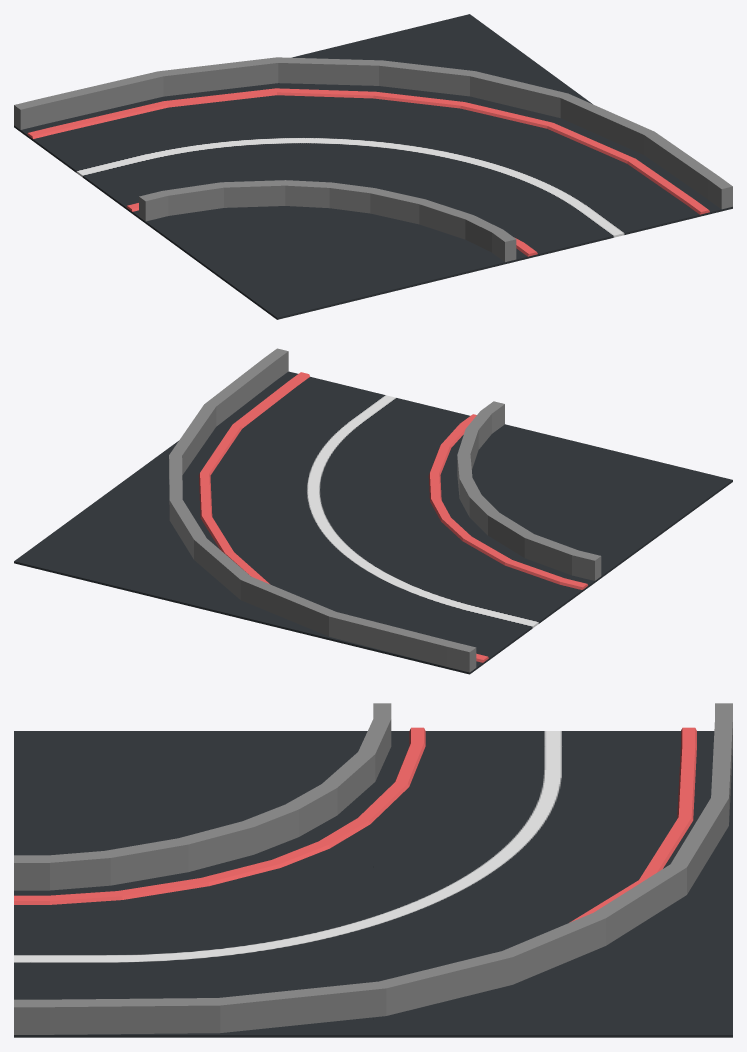
File: kartkids_base_trk_530_trn_90_l_2x2.gltf
3 renders of one model, top to bottom at view 1: azimuth 30°, elevation 25°; view 2: azimuth 150°, elevation 25°; view 3: azimuth 270°, elevation 25°, orthographic. The views are drawn at different scales.
Visible parts, largest first — view 1: kartkids_base_trk_530_trn_90_l_2x2, kartkids_base_trk_530_trn_90_l_2x2.001, kartkids_base_trk_530_trn_90_l_2x2.003, kartkids_base_trk_530_trn_90_l_2x2.002; view 2: kartkids_base_trk_530_trn_90_l_2x2, kartkids_base_trk_530_trn_90_l_2x2.001, kartkids_base_trk_530_trn_90_l_2x2.003, kartkids_base_trk_530_trn_90_l_2x2.002; view 3: kartkids_base_trk_530_trn_90_l_2x2, kartkids_base_trk_530_trn_90_l_2x2.001, kartkids_base_trk_530_trn_90_l_2x2.003, kartkids_base_trk_530_trn_90_l_2x2.002.
Boxes of the visible parts, x1=… form: kartkids_base_trk_530_trn_90_l_2x2: x1=14, y1=14, x2=732, y2=319; kartkids_base_trk_530_trn_90_l_2x2.001: x1=14, y1=57, x2=732, y2=209; kartkids_base_trk_530_trn_90_l_2x2.003: x1=139, y1=180, x2=516, y2=262; kartkids_base_trk_530_trn_90_l_2x2.002: x1=27, y1=88, x2=709, y2=256; kartkids_base_trk_530_trn_90_l_2x2: x1=14, y1=371, x2=732, y2=674; kartkids_base_trk_530_trn_90_l_2x2.001: x1=169, y1=348, x2=476, y2=672; kartkids_base_trk_530_trn_90_l_2x2.003: x1=457, y1=401, x2=601, y2=580; kartkids_base_trk_530_trn_90_l_2x2.002: x1=198, y1=372, x2=587, y2=662; kartkids_base_trk_530_trn_90_l_2x2: x1=14, y1=731, x2=732, y2=1037; kartkids_base_trk_530_trn_90_l_2x2.001: x1=14, y1=703, x2=732, y2=1034; kartkids_base_trk_530_trn_90_l_2x2.003: x1=14, y1=703, x2=391, y2=890; kartkids_base_trk_530_trn_90_l_2x2.002: x1=14, y1=727, x2=696, y2=922.
Bounding box in the file's own units: 20 × 0.9339 × 20.
3 materials, 1 textured.
